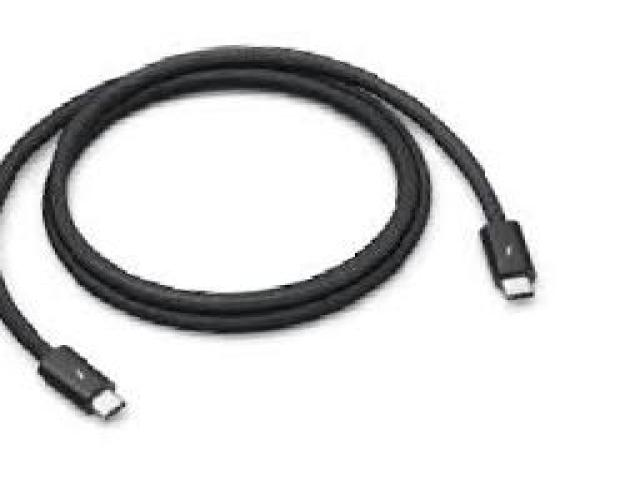wire: (0, 48, 532, 331), (0, 278, 125, 418)
